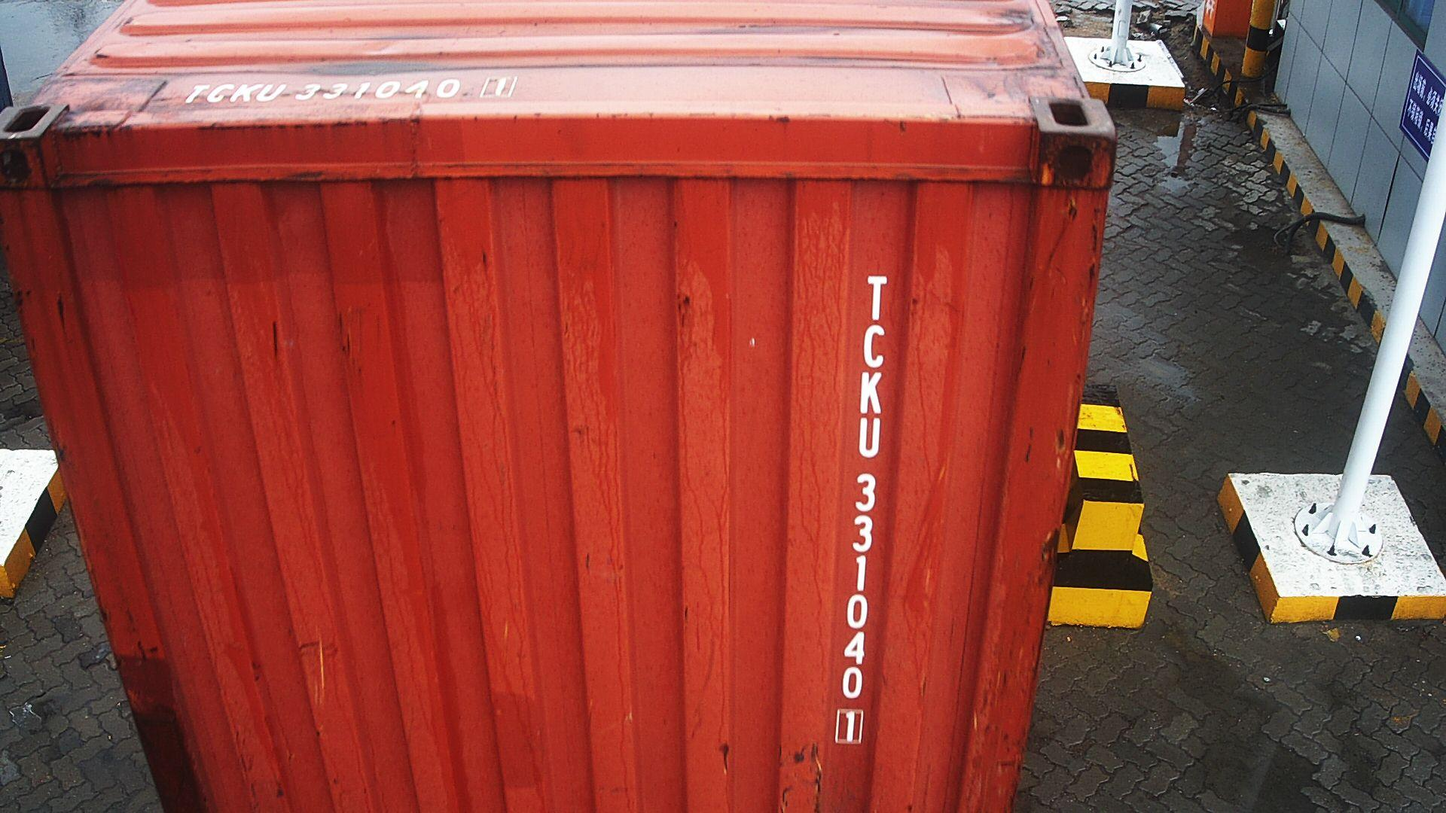container-numbers: (831, 273, 893, 748), (174, 73, 526, 109)
